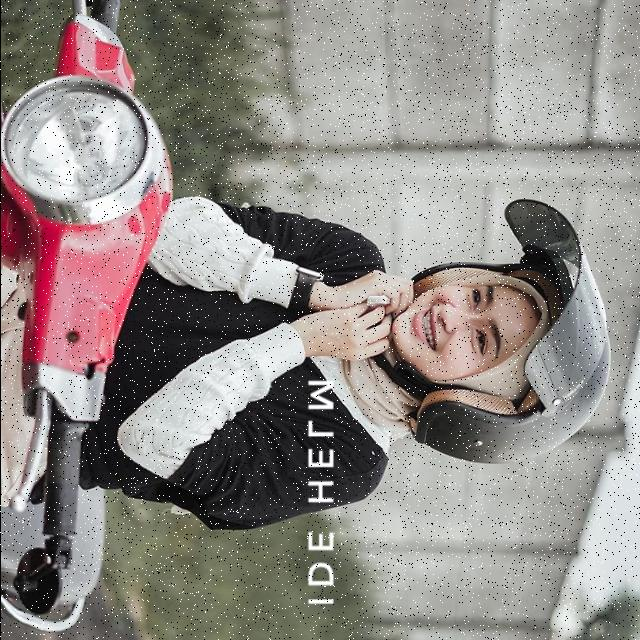Helmet: (387, 194, 611, 469)
